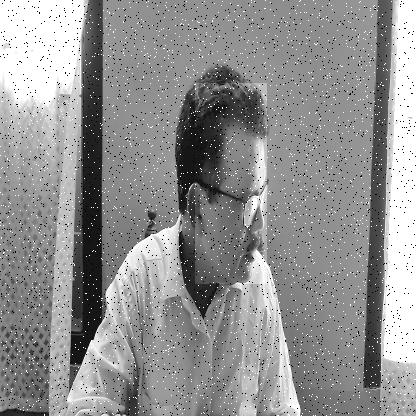Distracted: (195, 83, 267, 284)
